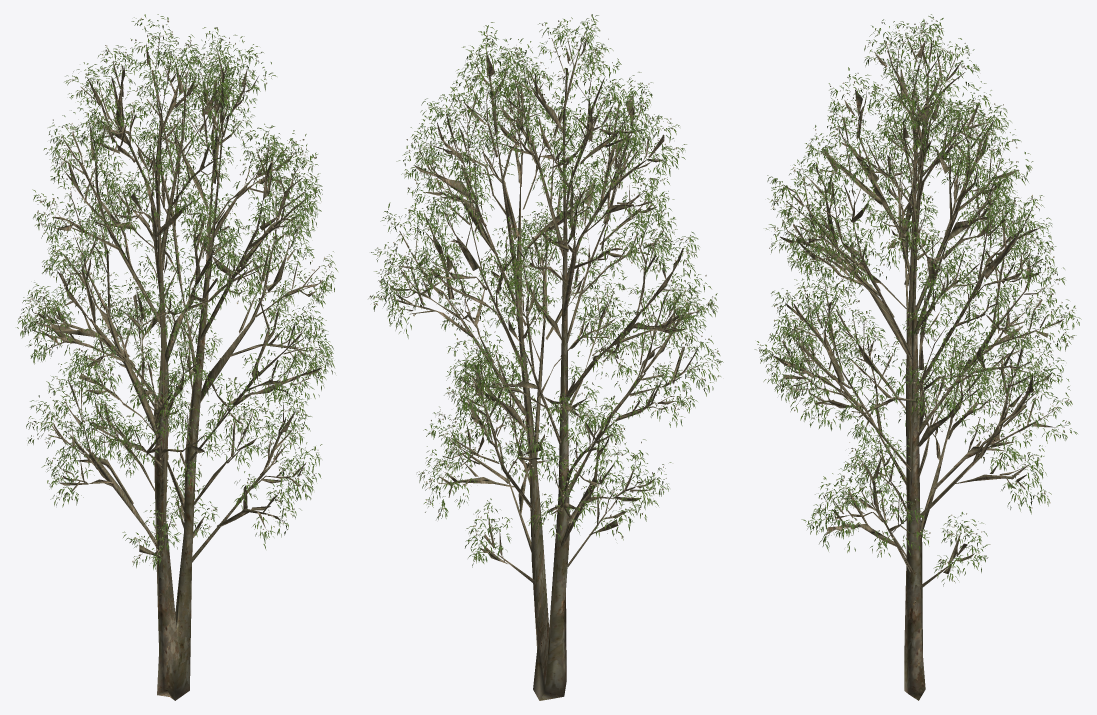
File: euc_glob.dae
3 renders of one model, left to right at view 1: azimuth 30°, elevation 25°; view 2: azimuth 150°, elevation 25°; view 3: azimuth 270°, elevation 25°, orthographic. The views are drawn at different scales.
Visible parts, largest first — view 1: euc_globulus.001; view 2: euc_globulus.001; view 3: euc_globulus.001.
Boxes of the visible parts, x1,y1,x2,y2 form: euc_globulus.001: [17, 14, 337, 700]; euc_globulus.001: [368, 14, 723, 700]; euc_globulus.001: [754, 14, 1081, 700].
Bounding box in the file's own units: 5.74 × 5.26 × 11.87.
2 materials, 2 textured.
